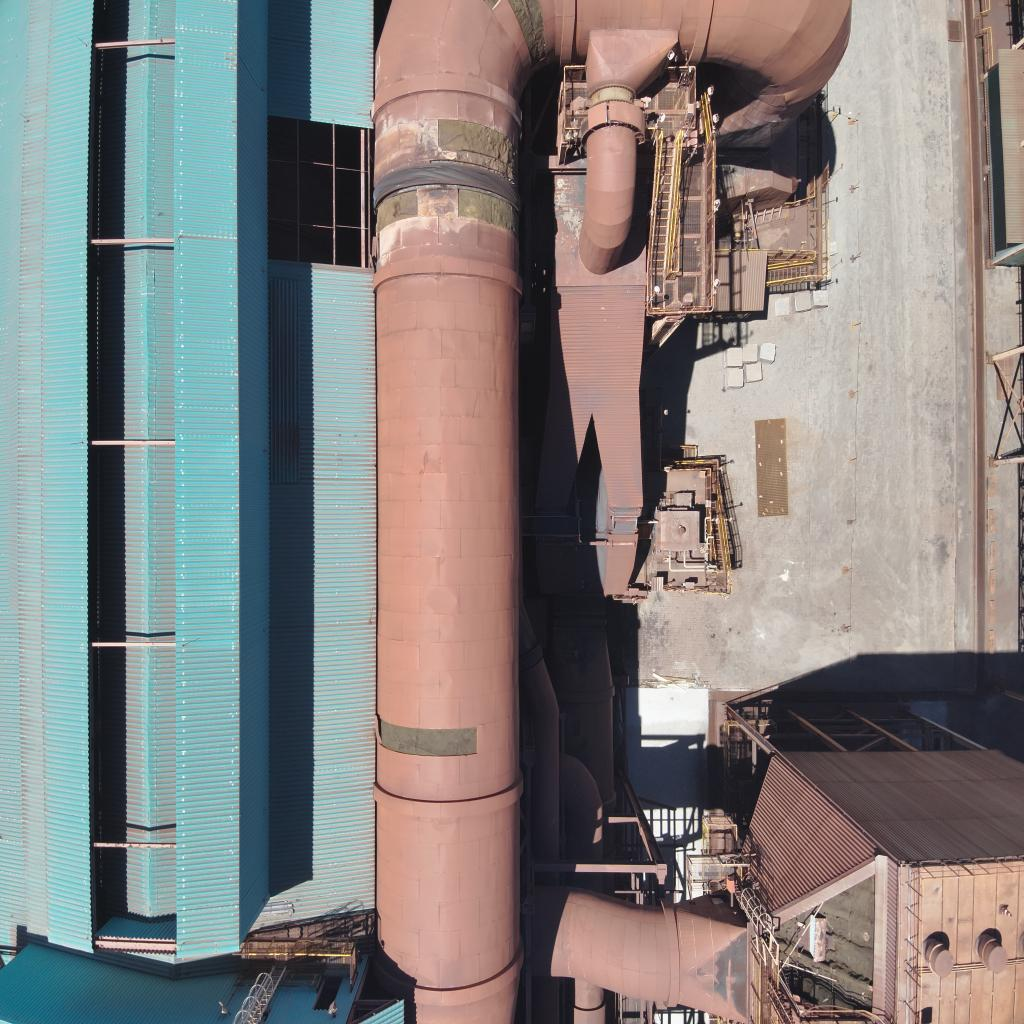Failures: (766, 882, 885, 1014), (372, 712, 479, 757), (438, 121, 518, 165), (508, 0, 548, 66), (458, 188, 518, 226), (373, 192, 419, 234), (483, 0, 505, 16)
